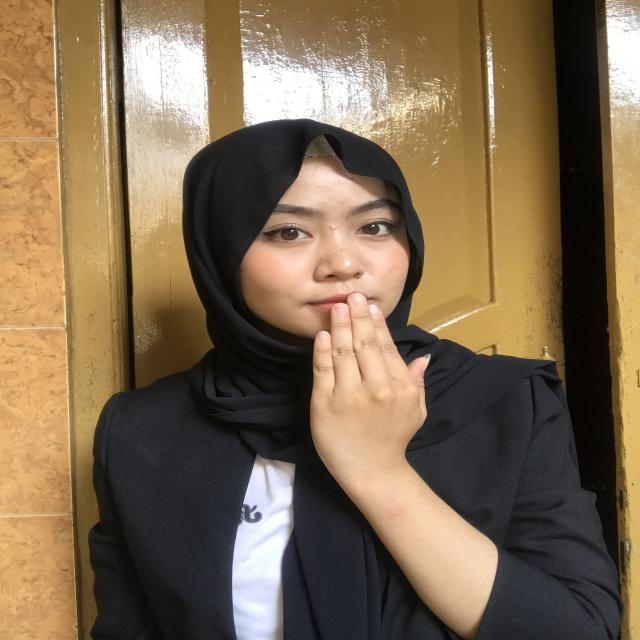ganteng: (257, 288, 455, 495)
